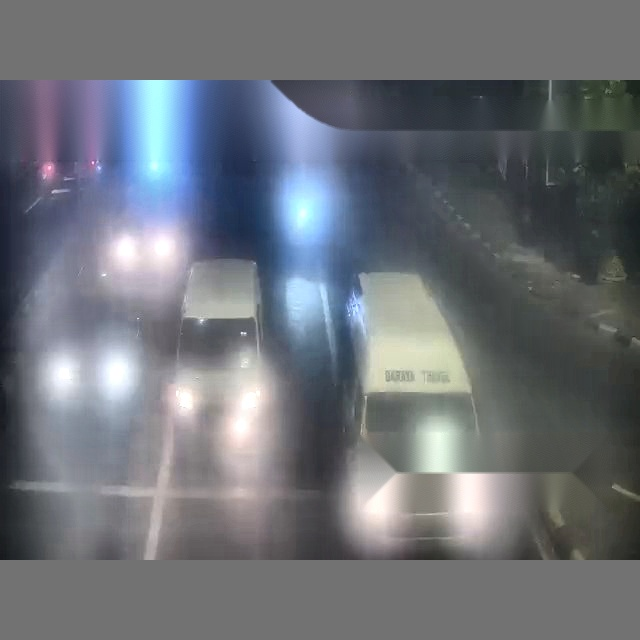Mobil: (346, 271, 486, 551)
